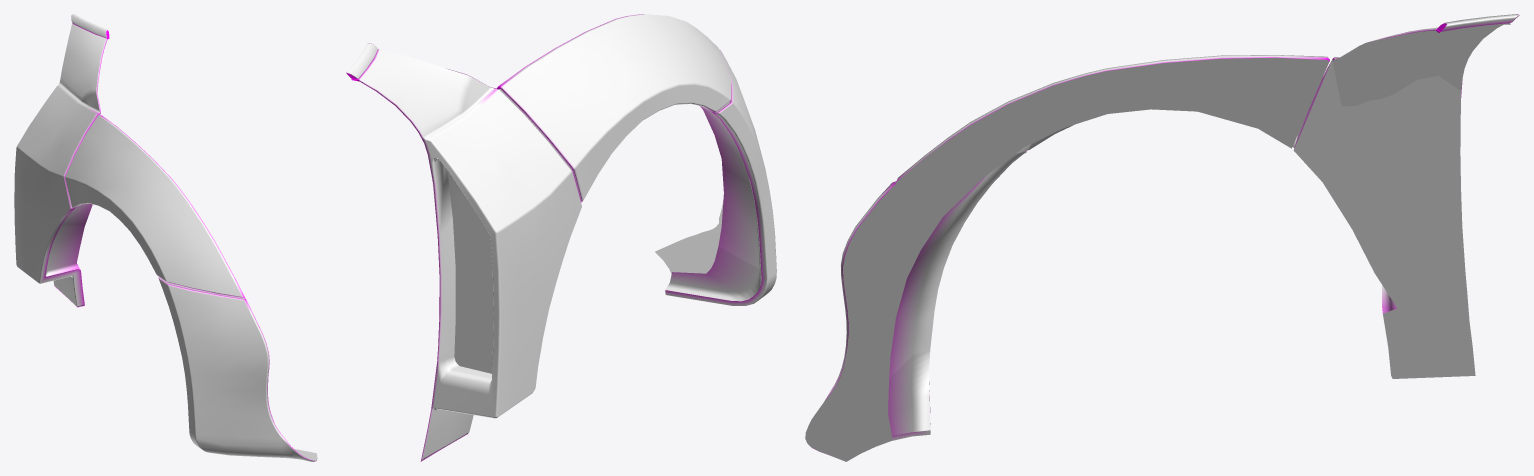
File: Car_Mini_CountrymanJCW_2017_FenderFR_SetC_AltA.fbx
The picture shows the model from 3 angles, left to right: view 1: azimuth 30°, elevation 25°; view 2: azimuth 150°, elevation 25°; view 3: azimuth 270°, elevation 25°; orthographic projection. The views are drawn at different scales.
Visible parts, largest first — view 1: FenderFR 6; view 2: FenderFR 6; view 3: FenderFR 6.
Part boxes in pixels (x1,y1,x2,y2): FenderFR 6: (14,14,317,461); FenderFR 6: (346,14,776,461); FenderFR 6: (805,14,1519,461).
Bounding box in the file's own units: 0.3159 × 0.8354 × 1.26.
